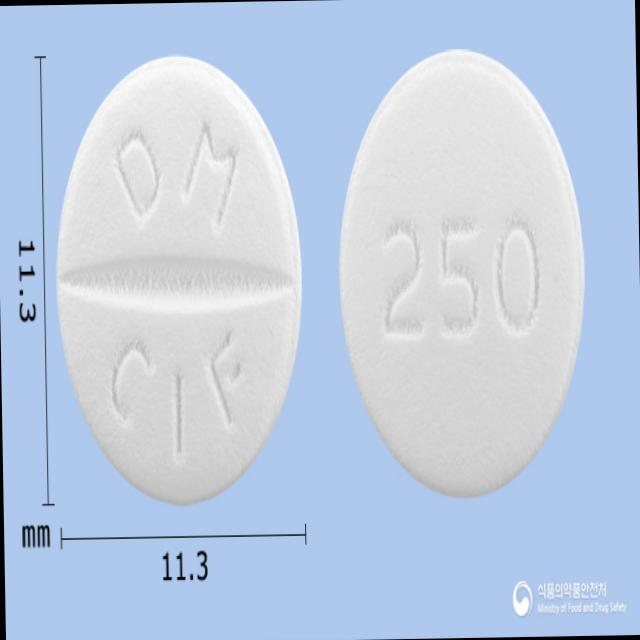Cifxacin: (329, 38, 593, 511), (49, 46, 310, 514)
